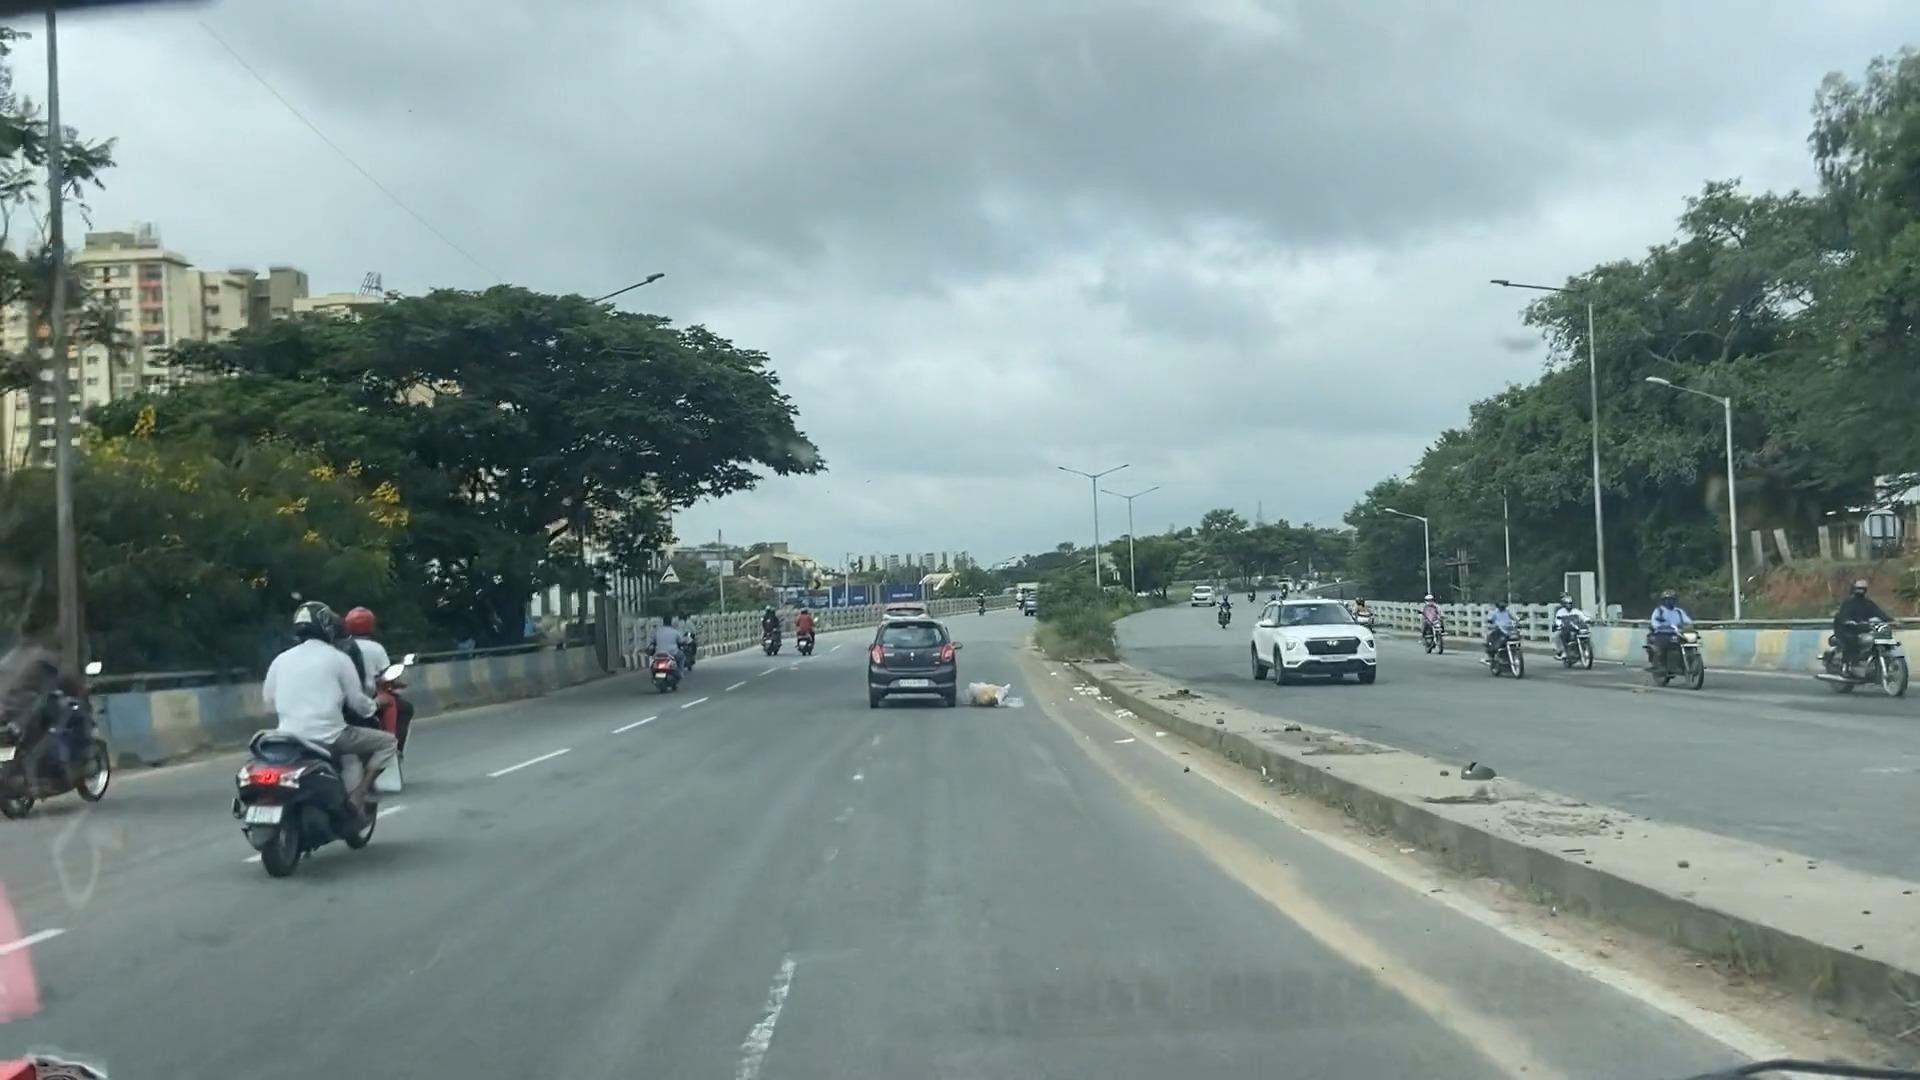LMV: (258, 607, 364, 836), (868, 620, 955, 698), (651, 618, 687, 686)
RoadDamages: (1364, 953, 1538, 1079), (1200, 825, 1327, 919)
